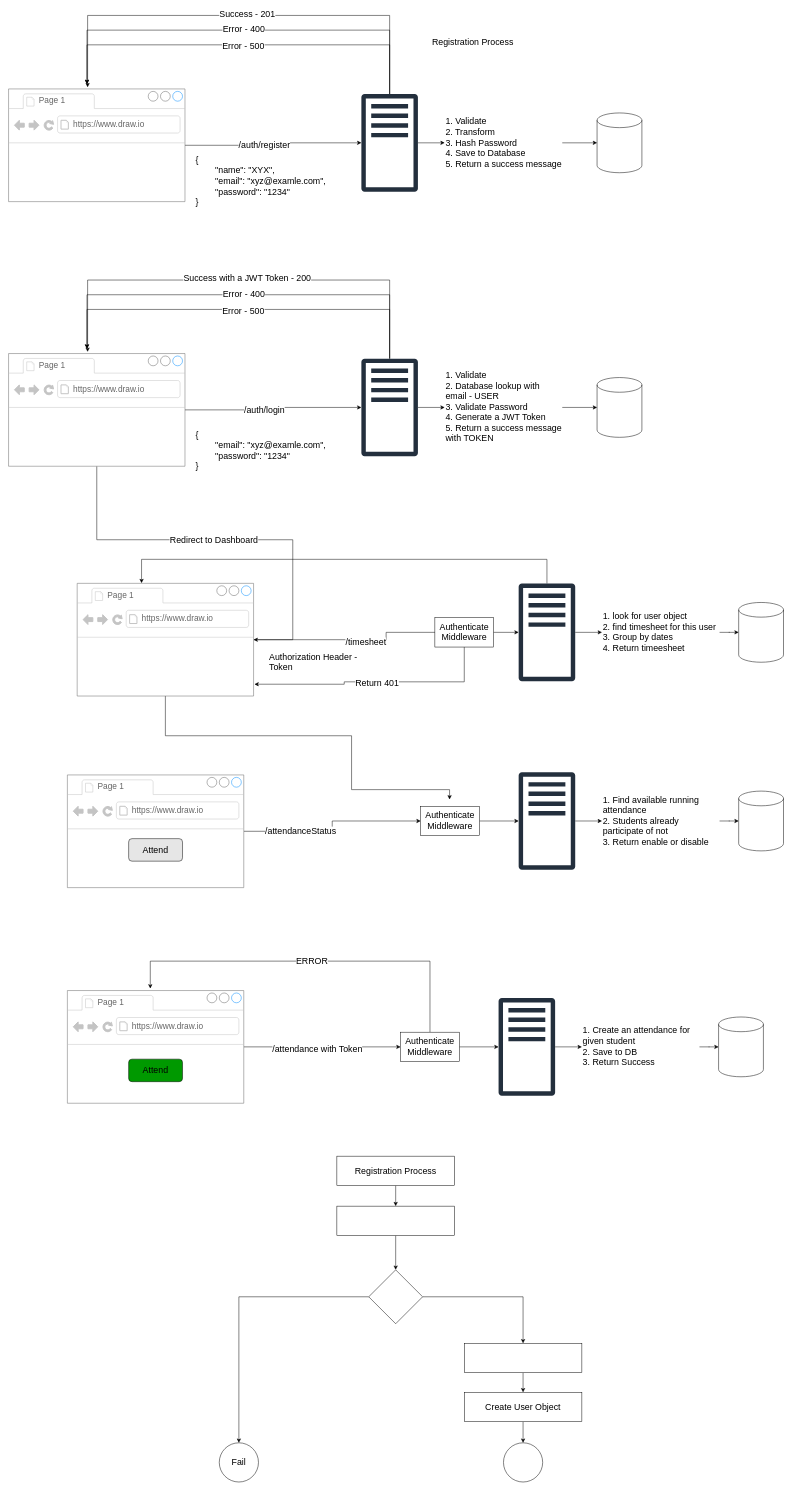
This 792x1491 diagram has some shape labels left out. Here are the shapes that lost their labels. From the top down, the box of each, then its label:
(8, 88, 185, 202): Registration Request
(8, 353, 185, 466): Login Request After a successful login save the JWT Token in Local Storage
(77, 583, 254, 696): Student Dashboard Request to TImesheet
(336, 1206, 454, 1236): User Input
(368, 1269, 423, 1324): Validate
(464, 1343, 582, 1373): Hash Password
(503, 1442, 543, 1482): Success
